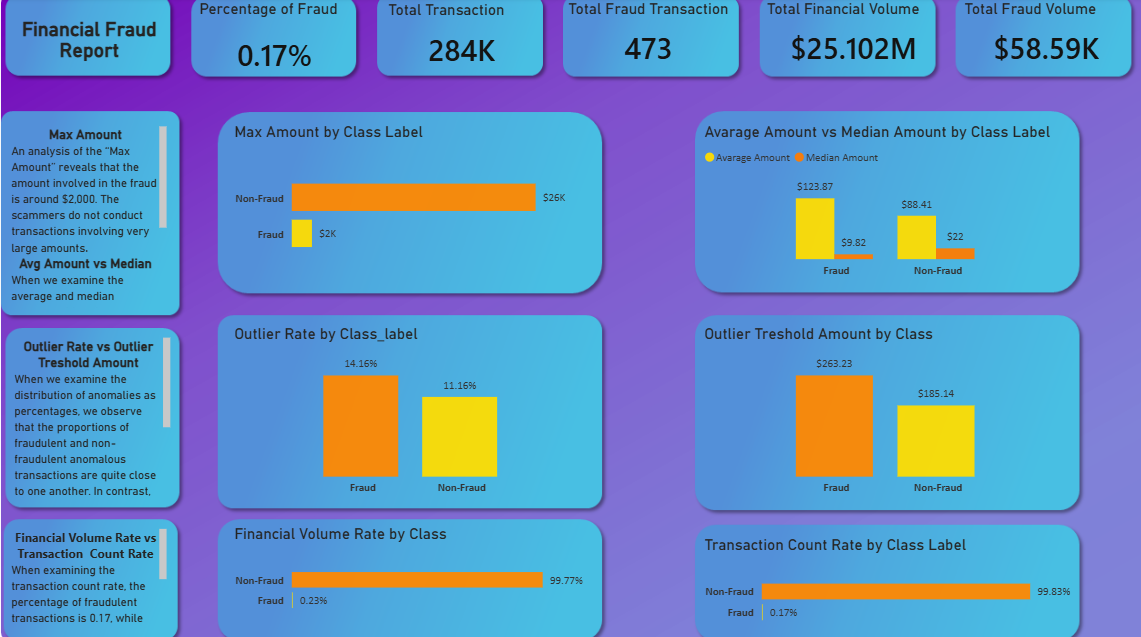

Layout of this report page (visuals, bound fields, positions):
{"tool":"powerbi","page":{"name":"Financial Fraud Report","canvas":[1280,720],"ordinal":0},"visuals":[{"type":"cardVisual","title":"Percentage of Fraud","fields":{"Data":["Percentage of Fraud.Fraud_Rate_KPI"]},"box":[225,2.7,175.6,97.4],"z":0},{"type":"cardVisual","title":"Total Transaction","fields":{"Data":["Sum(Distribution Analysis.total_transactions)"]},"box":[432.2,4.1,171.5,83.7],"z":1000},{"type":"cardVisual","title":"Total Fraud Transaction","fields":{"Data":["Distribution Analysis.Total Fraud Count"]},"box":[629.8,2.7,186.6,85.1],"z":2000},{"type":"textbox","box":[23.3,0,171.5,75.5],"z":2500},{"type":"cardVisual","title":"Total Financial Volume","fields":{"Data":["Sum(Imbalance Metrics.Total_Financial_Volume)"]},"box":[848,2.7,200.3,85.1],"z":3000},{"type":"cardVisual","title":"Total Fraud Volume","fields":{"Data":["Imbalance Metrics.Total_Fraud_Volume"]},"box":[1064.8,2.7,189.4,85.1],"z":4000},{"type":"clusteredColumnChart","title":"Outlier Rate by Class_label","fields":{"Y":["IQR.Outlier_Rate"],"Category":["Distribution Analysis.Class_label"]},"box":[263.5,359.5,400.7,196.2],"z":5000},{"type":"clusteredColumnChart","title":"Outlier Treshold Amount by Class","fields":{"Y":["Sum(IQR.Outlier_Threshold_Amount)"],"Category":["Distribution Analysis.Class_label"]},"box":[779.4,359.5,411.7,196.2],"z":6000},{"type":"clusteredColumnChart","title":"Avarage Amount vs Median Amount by Class Label","fields":{"Category":["Distribution Analysis.Class_label"],"Y":["Sum(Distribution Analysis.AVG_amount)","Sum(Distribution Analysis.MedianAmount)"]},"box":[779.4,137.2,411.7,179.8],"z":7000},{"type":"clusteredBarChart","title":"Max Amount by Class Label","fields":{"Category":["Distribution Analysis.Class_label"],"Y":["Sum(Distribution Analysis.Max_amount)"]},"box":[263.5,137.2,385.6,179.8],"z":8000},{"type":"clusteredBarChart","title":"Financial Volume Rate by Class ","fields":{"Category":["Imbalance Metrics.Class_label"],"Y":["Imbalance Metrics.Financial_Volume_Rate"]},"box":[263.5,579.1,392.5,118],"z":9000},{"type":"clusteredBarChart","title":"Transaction  Count Rate by Class Label","fields":{"Category":["Imbalance Metrics.Class_label"],"Y":["Imbalance Metrics.Transaction_Count_Rate"]},"box":[779.4,591.4,411.7,119.4],"z":10000},{"type":"textbox","box":[17.8,137.2,181.1,208.6],"z":11000},{"type":"textbox","box":[22,369.1,181.1,186.6],"z":12000},{"type":"textbox","box":[17.8,579.1,181.1,118],"z":13000}]}

Visuals, with their boxes in screenshot pixels (x1, y1, x2, y2), scaled from the page's 1280x720 canvas onto the 1141x637 screenshot:
"Percentage of Fraud" cardVisual: region(201, 2, 357, 89)
"Total Transaction" cardVisual: region(385, 4, 538, 78)
"Total Fraud Transaction" cardVisual: region(561, 2, 728, 78)
textbox: region(21, 0, 174, 67)
"Total Financial Volume" cardVisual: region(756, 2, 934, 78)
"Total Fraud Volume" cardVisual: region(949, 2, 1118, 78)
"Outlier Rate by Class_label" clusteredColumnChart: region(235, 318, 592, 492)
"Outlier Treshold Amount by Class" clusteredColumnChart: region(695, 318, 1062, 492)
"Avarage Amount vs Median Amount by Class Label" clusteredColumnChart: region(695, 121, 1062, 280)
"Max Amount by Class Label" clusteredBarChart: region(235, 121, 579, 280)
"Financial Volume Rate by Class " clusteredBarChart: region(235, 512, 585, 617)
"Transaction  Count Rate by Class Label" clusteredBarChart: region(695, 523, 1062, 629)
textbox: region(16, 121, 177, 306)
textbox: region(20, 327, 181, 492)
textbox: region(16, 512, 177, 617)
